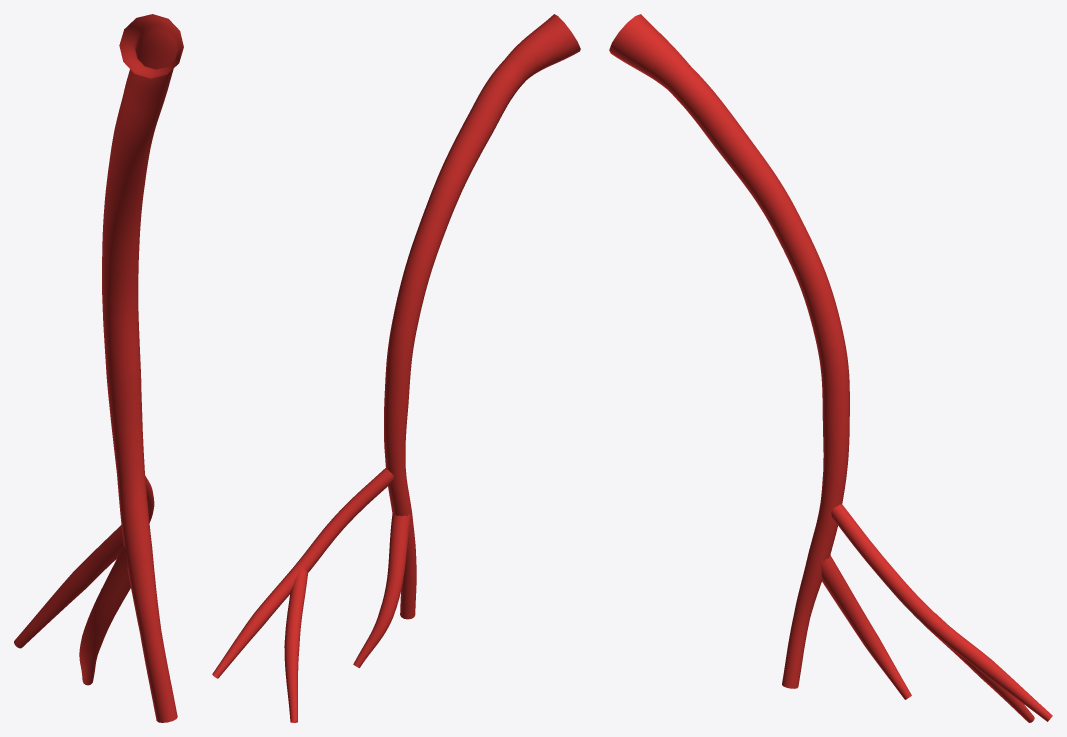
Rendered from circulatorio-inferior-basal-vein-of-left-lung.glb.
3 views of the same model, side by side, from view 1: azimuth 30°, elevation 25°; view 2: azimuth 150°, elevation 25°; view 3: azimuth 270°, elevation 25° (orthographic). The views are drawn at different scales.
Parts seen in each view (by area): view 1: Inferior basal vein of left lung; view 2: Inferior basal vein of left lung; view 3: Inferior basal vein of left lung.
Part boxes in pixels (x1,y1,x2,y2): Inferior basal vein of left lung: (14, 14, 183, 722); Inferior basal vein of left lung: (212, 14, 580, 722); Inferior basal vein of left lung: (609, 14, 1052, 722).
Size of the model in its own units: 0.0273 by 0.0868 by 0.0528.
